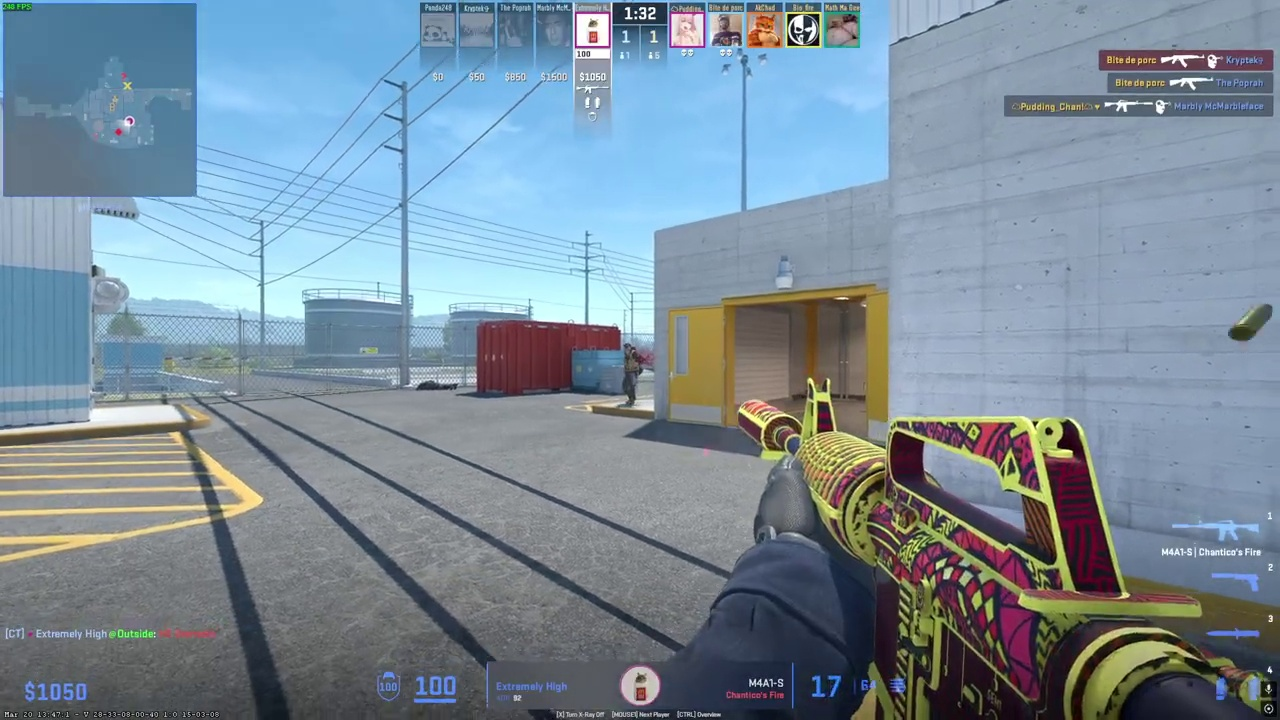Terrorist: (622, 344, 641, 406)
